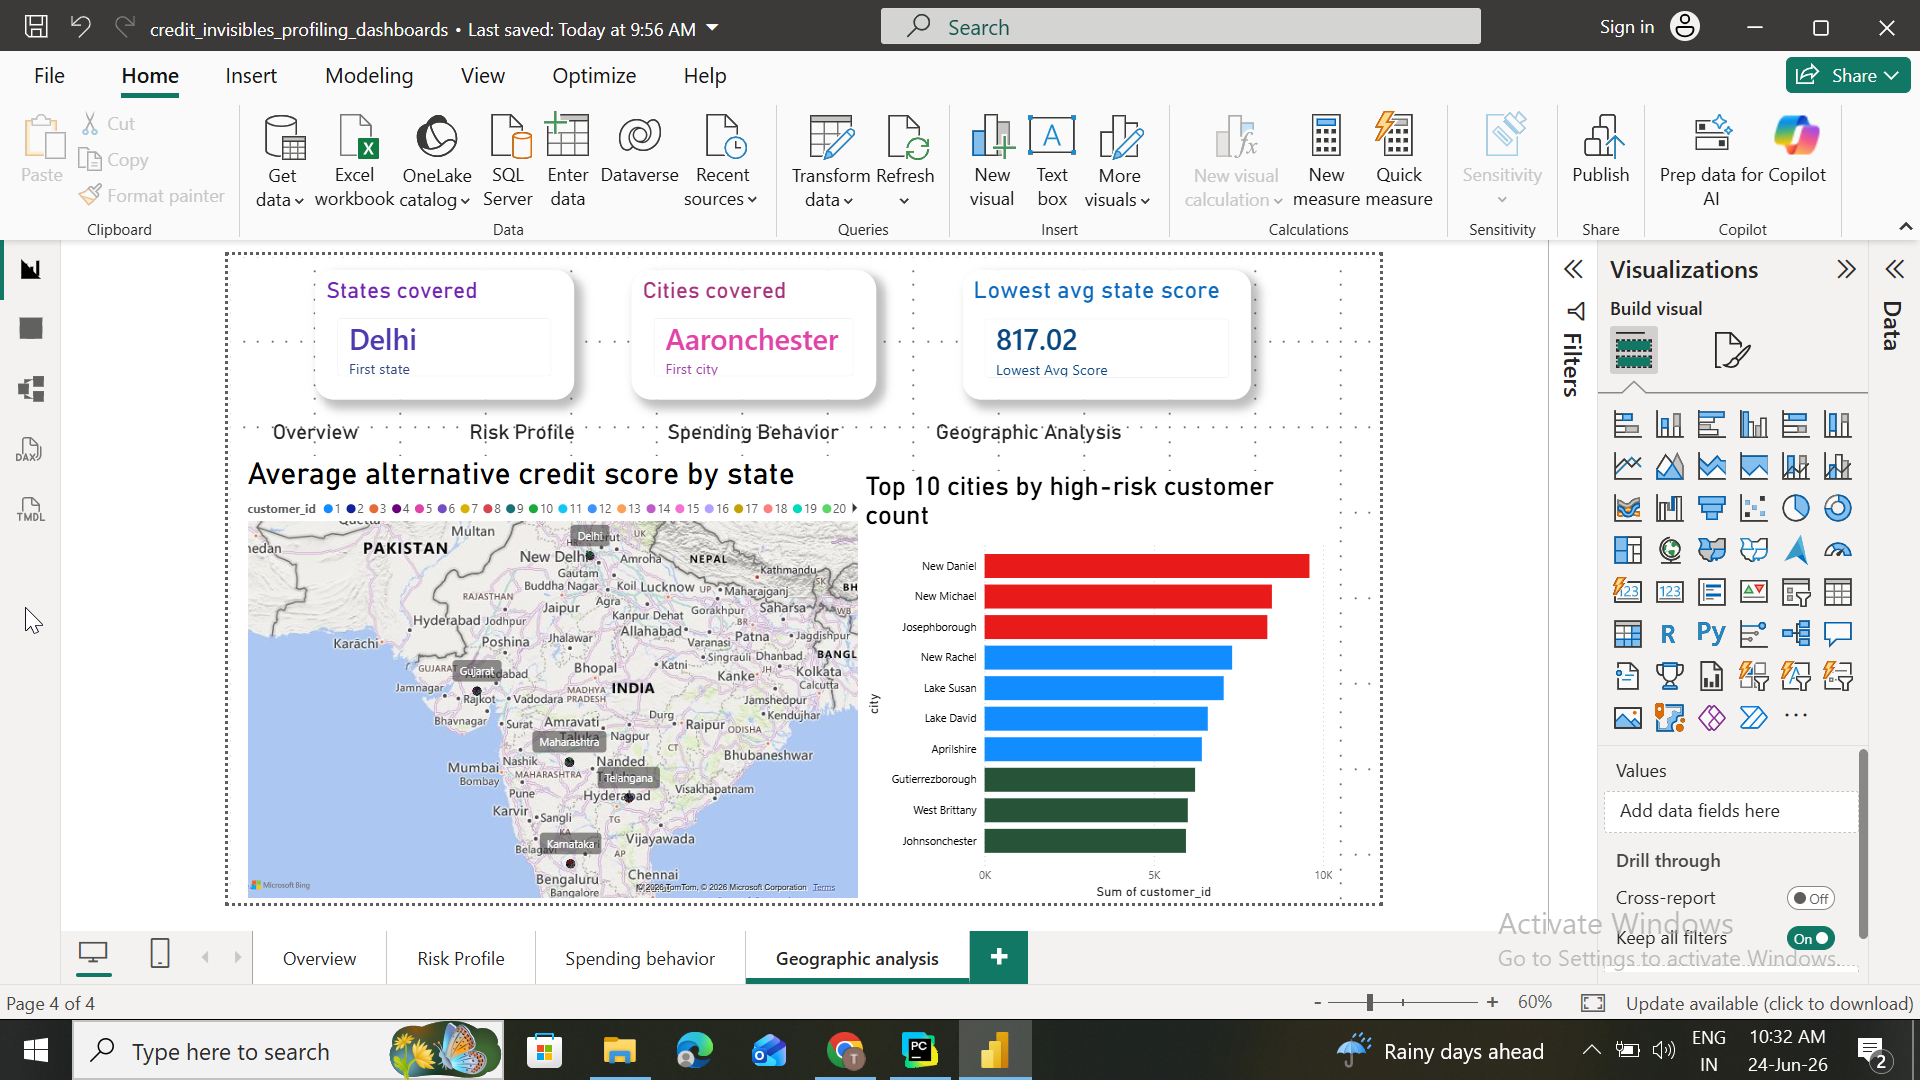

What the dashboard file says about the page in this screenshot:
{"tool":"powerbi","page":{"name":"Geographic analysis","canvas":[1280,720],"ordinal":3},"visuals":[{"type":"map","title":"Average alternative credit score by state","fields":{"Category":["final_dataset.state"],"Size":["Sum(final_dataset.alt_credit_score)"],"Series":["final_dataset.customer_id"]},"box":[16,224,688,496],"z":0},{"type":"barChart","title":"Top 10 cities by high-risk customer count","fields":{"Category":["final_dataset.city"],"Y":["Sum(final_dataset.customer_id)"]},"box":[704,240,528,480],"z":1000},{"type":"cardVisual","title":"States covered","fields":{"Data":["Min(final_dataset.state)"]},"box":[96,16,288,144],"z":2000},{"type":"cardVisual","title":"Cities covered","fields":{"Data":["Min(final_dataset.city)"]},"box":[448,16,272,144],"z":3000},{"type":"cardVisual","title":"Lowest avg state score","fields":{"Data":["final_dataset.Lowest Avg Score"]},"box":[816,16,320,144],"z":4000},{"type":"actionButton","title":"Overview","box":[50.2,183.3,144,32],"z":5000},{"type":"actionButton","title":"Risk Profile","box":[268.9,183.3,144,32],"z":6000},{"type":"actionButton","title":"Spending Behavior","box":[487.5,183.3,224,32],"z":7000},{"type":"actionButton","title":"Geographic Analysis","box":[786.2,183.3,288,32],"z":8000}]}

Visuals, with their boxes on the page's 1280x720 design canvas (x1, y1, x2, y2). These are canvas units, not pixel positions in the 1920x1080 screenshot, which may show the page scaled, cropped or inside an application window:
"Average alternative credit score by state" map: region(16, 224, 704, 720)
"Top 10 cities by high-risk customer count" barChart: region(704, 240, 1232, 720)
"States covered" cardVisual: region(96, 16, 384, 160)
"Cities covered" cardVisual: region(448, 16, 720, 160)
"Lowest avg state score" cardVisual: region(816, 16, 1136, 160)
"Overview" actionButton: region(50, 183, 194, 215)
"Risk Profile" actionButton: region(269, 183, 413, 215)
"Spending Behavior" actionButton: region(488, 183, 712, 215)
"Geographic Analysis" actionButton: region(786, 183, 1074, 215)
